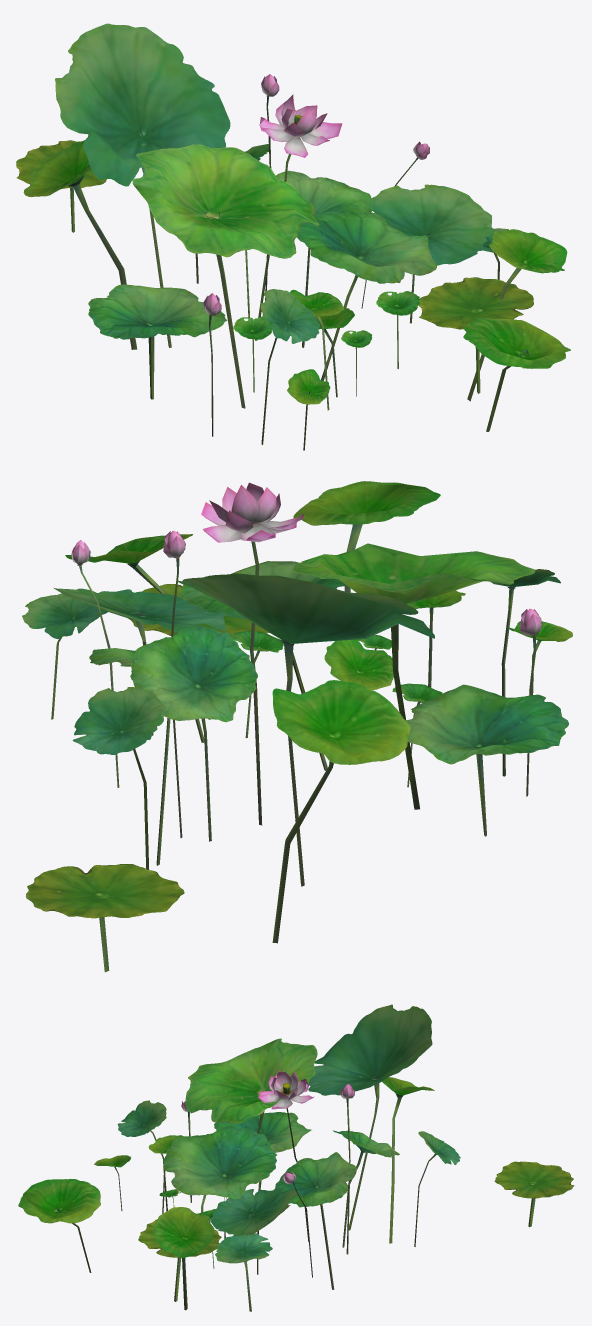
Rendered from lotus.fbx.
The picture shows the model from 3 angles, top to bottom: view 1: azimuth 30°, elevation 25°; view 2: azimuth 150°, elevation 25°; view 3: azimuth 270°, elevation 25°; orthographic projection. The views are drawn at different scales.
Parts seen in each view (by area): view 1: lotus; view 2: lotus; view 3: lotus.
Part boxes in pixels (bbox=[...]): lotus: bbox=[16, 23, 570, 450]; lotus: bbox=[22, 481, 572, 972]; lotus: bbox=[18, 1004, 574, 1311].
Size of the model in its own units: 3.08 by 2.13 by 4.8.
Materials: 1 (1 with a texture image).
